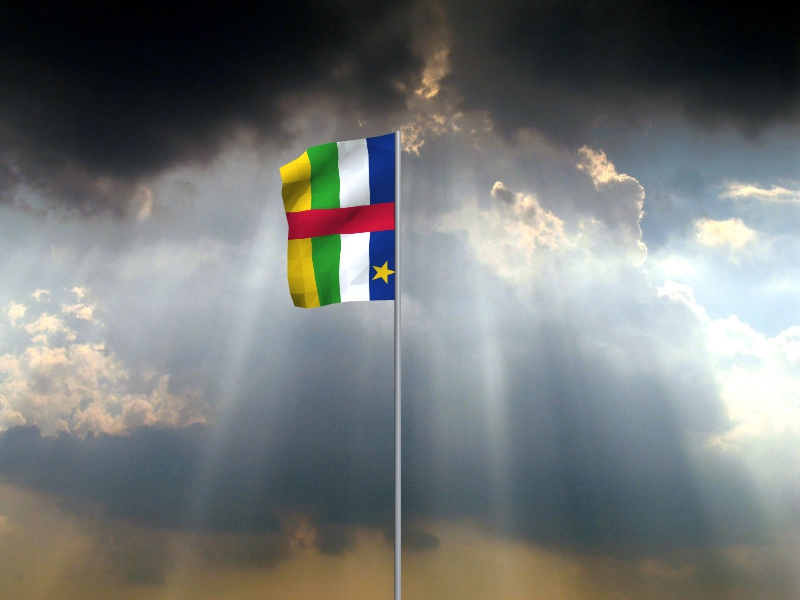cf: (279, 133, 396, 310)
